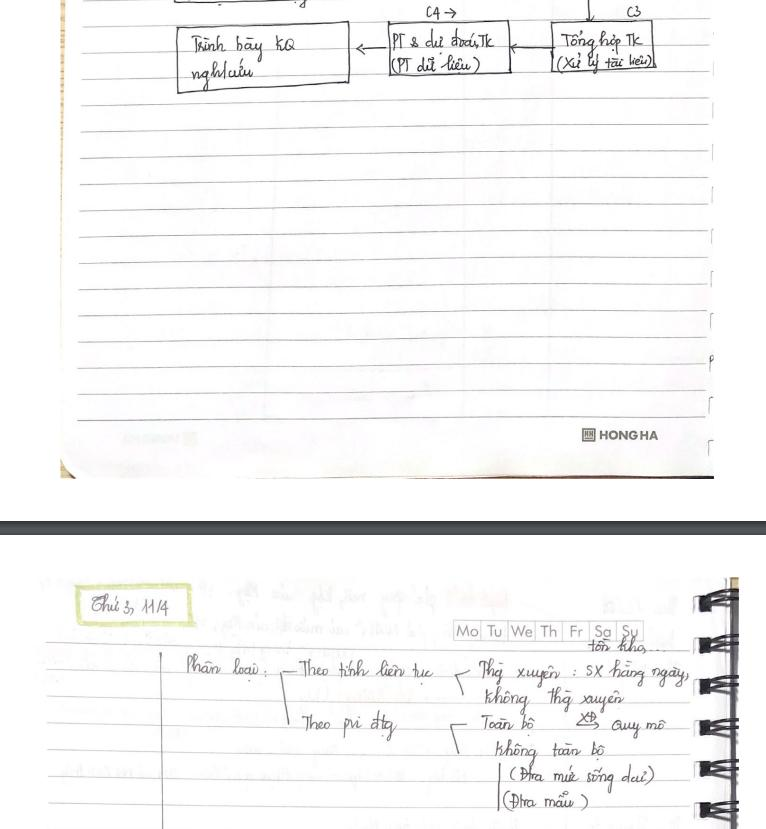text: (478, 656, 692, 690), (473, 709, 670, 741), (506, 761, 656, 793), (296, 654, 436, 688), (481, 684, 626, 713), (187, 28, 298, 64), (300, 708, 402, 746), (491, 736, 607, 768), (453, 621, 641, 638), (391, 26, 496, 56), (184, 650, 269, 683), (392, 49, 482, 79), (556, 49, 653, 76), (501, 788, 592, 816), (560, 24, 646, 52), (188, 57, 256, 92), (87, 592, 174, 619), (598, 426, 660, 446), (588, 634, 647, 653), (422, 0, 443, 23), (623, 0, 642, 19)
